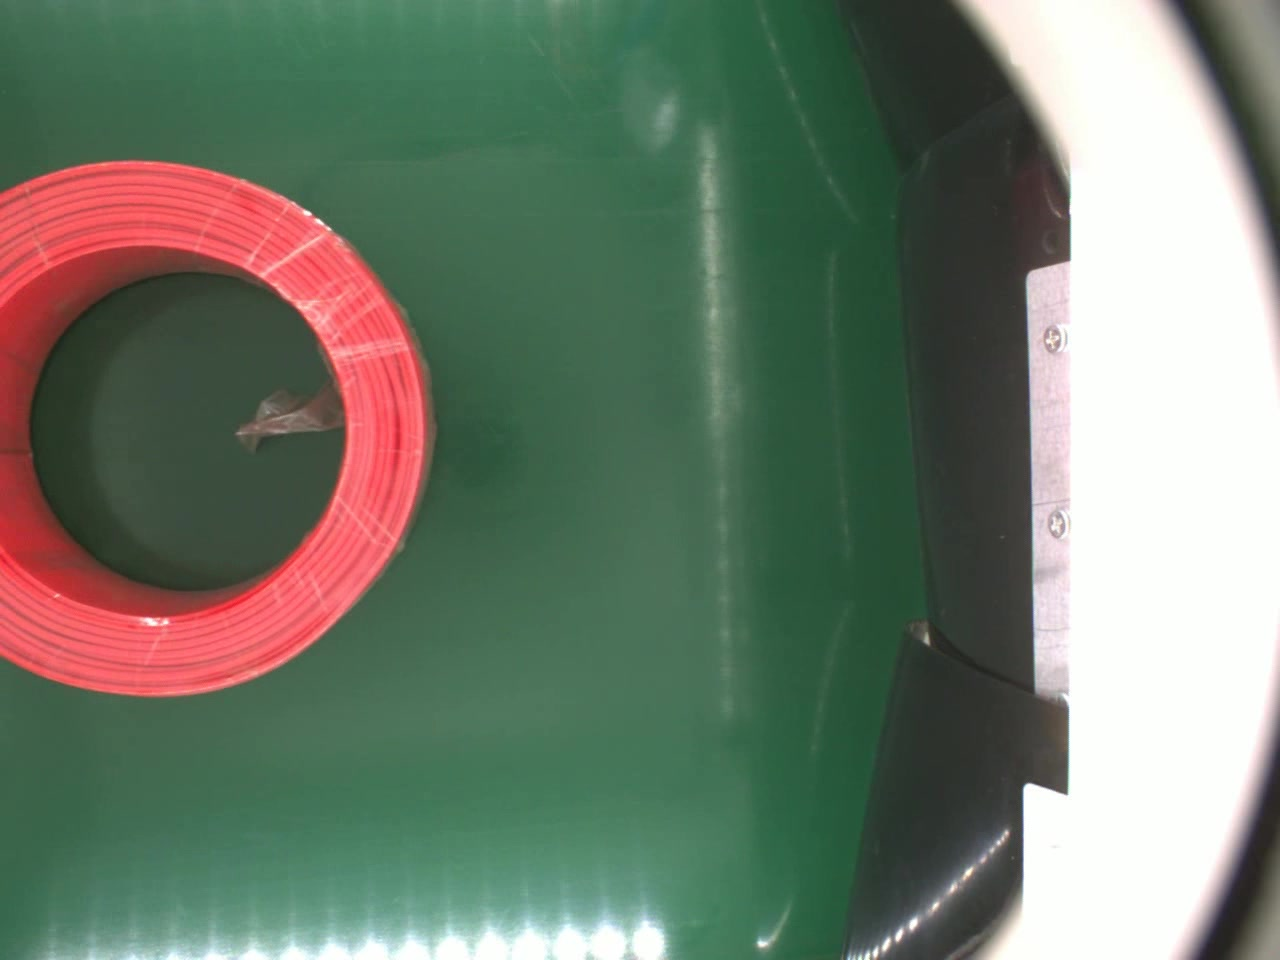red: (0, 160, 437, 700)
